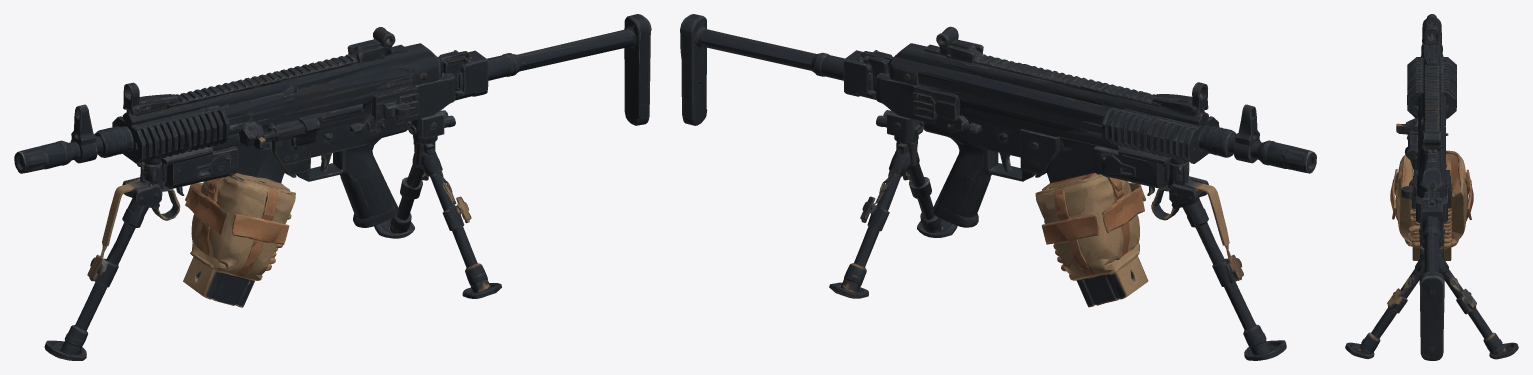
3 views of the same model, side by side, from view 1: azimuth 30°, elevation 25°; view 2: azimuth 150°, elevation 25°; view 3: azimuth 270°, elevation 25° (orthographic). The views are drawn at different scales.
Size of the model in its own units: 1.9 by 0.749 by 0.5631.
1 material, 1 textured.
